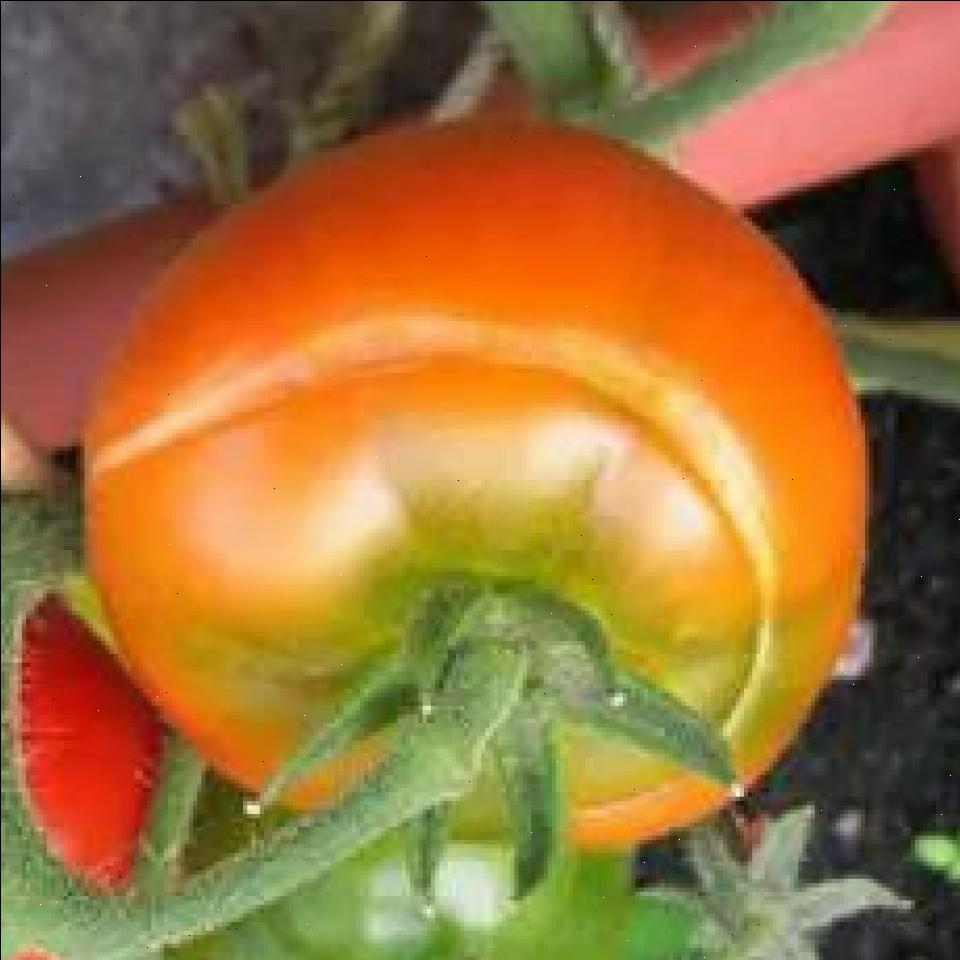Cracking: (72, 265, 796, 840)
